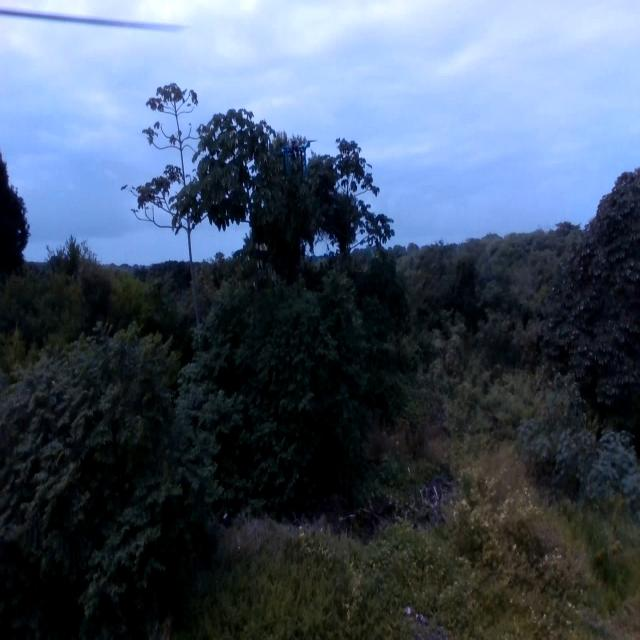-uav-: (258, 116, 332, 196)
